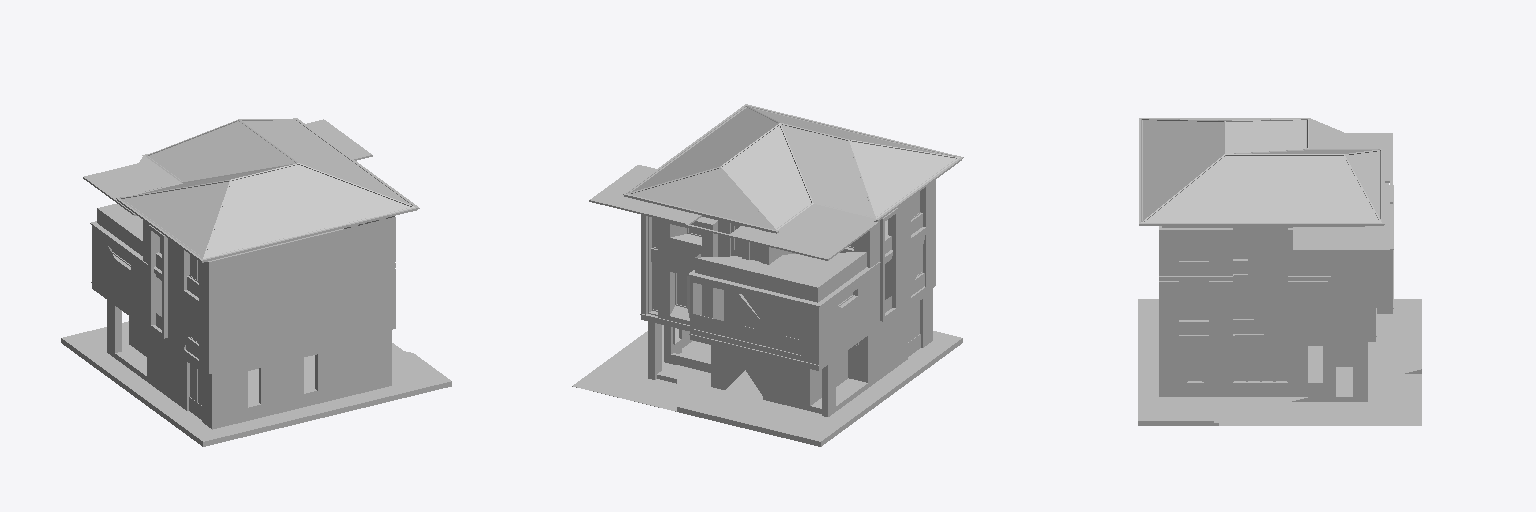
File: 220107 - SaigonPenisula -COMBINE - SU8.obj
3 renders of one model, left to right at view 1: azimuth 30°, elevation 25°; view 2: azimuth 150°, elevation 25°; view 3: azimuth 270°, elevation 25°, orthographic.
Parts seen in each view (by area): view 1: Mesh24 Component_357_1 Group1 bt3_1_1 Model, Mesh12 Component_60_1 Group6 Group1 bt3_1_1 Model, Mesh87 Component_68_1 Component_82_1 Group1 bt3_1_1 Model, Mesh20 Component_62_1 Component_71_1 Group1 bt3_1_1 Model, Mesh56 g_2_1 Group1 bt3_1_1 Model, Mesh28 Component_42_1 Component_111_1 Component_263_1 Group1 bt3, Mesh13 Component_56_1 Group6 Group1 bt3_1_1 Model, Mesh89 Component_73_1 Component_82_1 Group1 bt3_1_1 Model, Mesh49 Component_79_1 Group1 bt3_1_1 Model, Mesh63 Component_215_1 Group1 bt3_1_1 Model, Mesh8 Component_30_2 Group5 Group1 bt3_1_1 Model, Mesh4 Component_30_1 Group5 Group1 bt3_1_1 Model (+2 smaller); view 2: Mesh24 Component_357_1 Group1 bt3_1_1 Model, Mesh56 g_2_1 Group1 bt3_1_1 Model, Mesh13 Component_56_1 Group6 Group1 bt3_1_1 Model, Mesh49 Component_79_1 Group1 bt3_1_1 Model, Mesh12 Component_60_1 Group6 Group1 bt3_1_1 Model, Mesh87 Component_68_1 Component_82_1 Group1 bt3_1_1 Model, Mesh22 Component_255_1 Group1 bt3_1_1 Model, Mesh28 Component_42_1 Component_111_1 Component_263_1 Group1 bt3, Mesh20 Component_62_1 Component_71_1 Group1 bt3_1_1 Model, Mesh4 Component_30_1 Group5 Group1 bt3_1_1 Model, Mesh89 Component_73_1 Component_82_1 Group1 bt3_1_1 Model, Mesh8 Component_30_2 Group5 Group1 bt3_1_1 Model (+11 smaller); view 3: Mesh24 Component_357_1 Group1 bt3_1_1 Model, Mesh56 g_2_1 Group1 bt3_1_1 Model, Mesh12 Component_60_1 Group6 Group1 bt3_1_1 Model, Mesh87 Component_68_1 Component_82_1 Group1 bt3_1_1 Model, Mesh20 Component_62_1 Component_71_1 Group1 bt3_1_1 Model, Mesh18 Component_87_1 Component_71_1 Group1 bt3_1_1 Model, Mesh8 Component_30_2 Group5 Group1 bt3_1_1 Model, Mesh28 Component_42_1 Component_111_1 Component_263_1 Group1 bt3, Mesh13 Component_56_1 Group6 Group1 bt3_1_1 Model, Mesh88 Component_68_1 Component_82_1 Group1 bt3_1_1 Model, Mesh83 Component_197_15 Group1 bt3_1_1 Model, Mesh4 Component_30_1 Group5 Group1 bt3_1_1 Model.
Boxes of the visible parts, <box> form: Mesh24 Component_357_1 Group1 bt3_1_1 Model: <box>119,119,414,258</box>; Mesh12 Component_60_1 Group6 Group1 bt3_1_1 Model: <box>97,226,395,367</box>; Mesh87 Component_68_1 Component_82_1 Group1 bt3_1_1 Model: <box>129,316,391,429</box>; Mesh20 Component_62_1 Component_71_1 Group1 bt3_1_1 Model: <box>143,216,395,308</box>; Mesh56 g_2_1 Group1 bt3_1_1 Model: <box>61,321,451,446</box>; Mesh28 Component_42_1 Component_111_1 Component_263_1 Group1 bt3: <box>116,118,419,262</box>; Mesh13 Component_56_1 Group6 Group1 bt3_1_1 Model: <box>92,222,151,331</box>; Mesh89 Component_73_1 Component_82_1 Group1 bt3_1_1 Model: <box>147,329,178,404</box>; Mesh49 Component_79_1 Group1 bt3_1_1 Model: <box>97,204,142,255</box>; Mesh63 Component_215_1 Group1 bt3_1_1 Model: <box>149,225,167,338</box>; Mesh8 Component_30_2 Group5 Group1 bt3_1_1 Model: <box>306,119,372,160</box>; Mesh4 Component_30_1 Group5 Group1 bt3_1_1 Model: <box>84,165,136,214</box>; Mesh24 Component_357_1 Group1 bt3_1_1 Model: <box>626,106,959,229</box>; Mesh56 g_2_1 Group1 bt3_1_1 Model: <box>572,325,962,446</box>; Mesh13 Component_56_1 Group6 Group1 bt3_1_1 Model: <box>690,276,879,370</box>; Mesh49 Component_79_1 Group1 bt3_1_1 Model: <box>695,252,866,302</box>; Mesh12 Component_60_1 Group6 Group1 bt3_1_1 Model: <box>718,220,935,350</box>; Mesh87 Component_68_1 Component_82_1 Group1 bt3_1_1 Model: <box>664,288,932,410</box>; Mesh22 Component_255_1 Group1 bt3_1_1 Model: <box>658,217,717,324</box>; Mesh28 Component_42_1 Component_111_1 Component_263_1 Group1 bt3: <box>623,104,963,233</box>; Mesh20 Component_62_1 Component_71_1 Group1 bt3_1_1 Model: <box>718,180,935,267</box>; Mesh4 Component_30_1 Group5 Group1 bt3_1_1 Model: <box>730,221,877,259</box>; Mesh89 Component_73_1 Component_82_1 Group1 bt3_1_1 Model: <box>848,313,899,387</box>; Mesh8 Component_30_2 Group5 Group1 bt3_1_1 Model: <box>589,165,701,224</box>; Mesh24 Component_357_1 Group1 bt3_1_1 Model: <box>1141,119,1381,222</box>; Mesh56 g_2_1 Group1 bt3_1_1 Model: <box>1138,299,1421,425</box>; Mesh12 Component_60_1 Group6 Group1 bt3_1_1 Model: <box>1159,228,1364,335</box>; Mesh87 Component_68_1 Component_82_1 Group1 bt3_1_1 Model: <box>1159,334,1352,396</box>; Mesh20 Component_62_1 Component_71_1 Group1 bt3_1_1 Model: <box>1159,226,1364,275</box>; Mesh18 Component_87_1 Component_71_1 Group1 bt3_1_1 Model: <box>1288,252,1375,341</box>; Mesh8 Component_30_2 Group5 Group1 bt3_1_1 Model: <box>1293,201,1389,251</box>; Mesh28 Component_42_1 Component_111_1 Component_263_1 Group1 bt3: <box>1139,118,1384,225</box>; Mesh13 Component_56_1 Group6 Group1 bt3_1_1 Model: <box>1376,250,1392,313</box>; Mesh88 Component_68_1 Component_82_1 Group1 bt3_1_1 Model: <box>1353,342,1367,401</box>; Mesh83 Component_197_15 Group1 bt3_1_1 Model: <box>1187,346,1203,381</box>; Mesh4 Component_30_1 Group5 Group1 bt3_1_1 Model: <box>1347,133,1389,182</box>.
Bounding box in the file's own units: 15167 × 12684 × 14925.